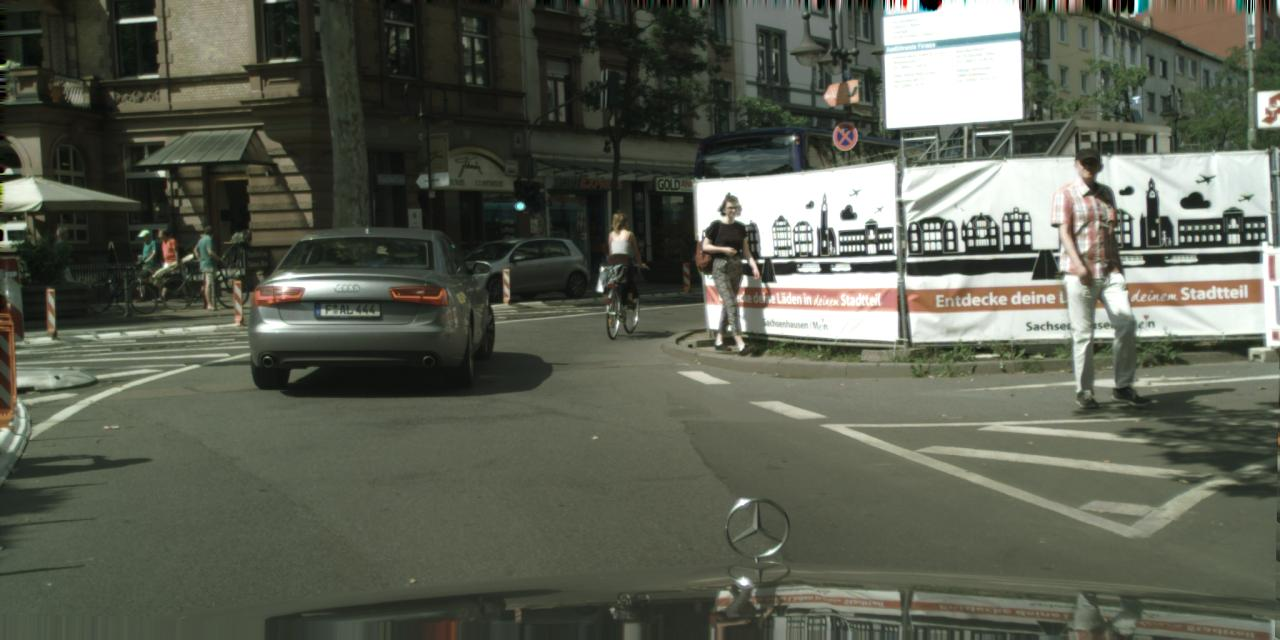ped: (1044, 148, 1150, 404), (698, 191, 764, 352), (601, 213, 641, 314), (45, 227, 80, 314), (192, 225, 226, 309), (131, 228, 161, 300), (156, 229, 184, 300)
